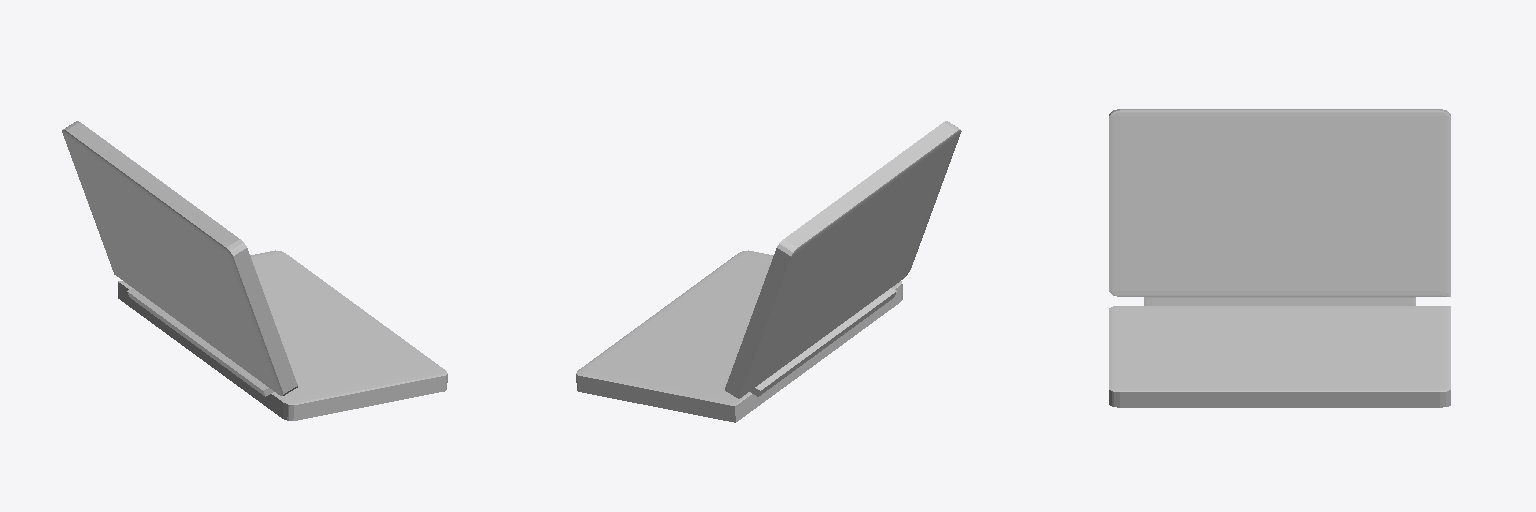
The model's file is Laptop-2.obj.
3 views of the same model, side by side, from view 1: azimuth 30°, elevation 25°; view 2: azimuth 150°, elevation 25°; view 3: azimuth 270°, elevation 25° (orthographic).
Parts seen in each view (by area): view 1: Cube, Cube.001, Cube.002; view 2: Cube, Cube.001, Cube.002; view 3: Cube, Cube.001, Cube.002.
Boxes of the visible parts, box(x1,y1,x2,y2) form: Cube: box(62, 121, 297, 395); Cube.001: box(118, 250, 447, 420); Cube.002: box(127, 288, 273, 396); Cube: box(725, 121, 961, 398); Cube.001: box(576, 250, 902, 422); Cube.002: box(750, 288, 896, 396); Cube: box(1109, 109, 1450, 296); Cube.001: box(1109, 306, 1450, 407); Cube.002: box(1144, 297, 1415, 305).
Size of the model in its own units: 2.71 by 2.32 by 3.64.